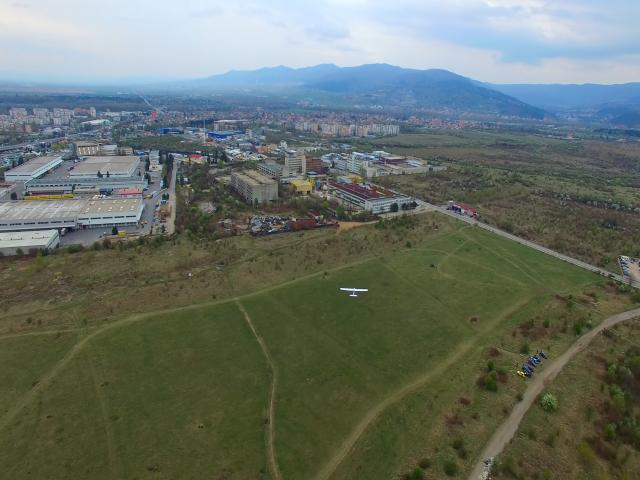plane: (339, 286, 369, 298)
